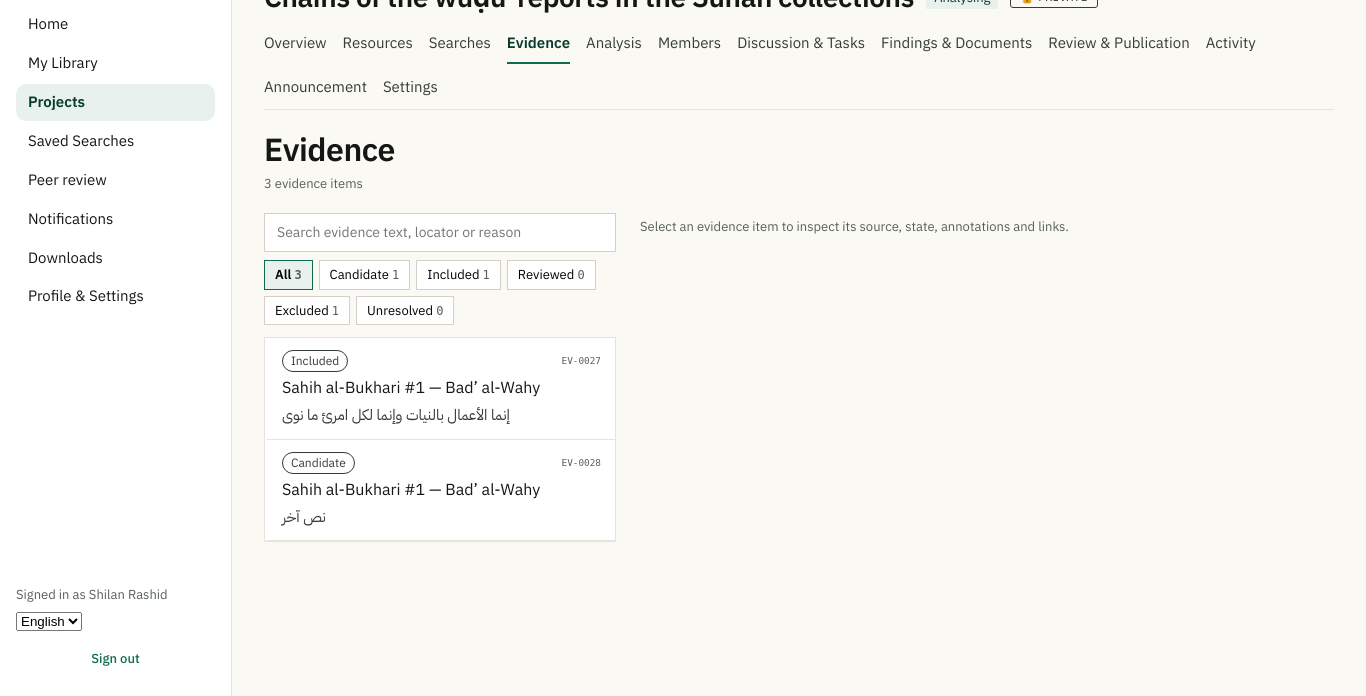
Scenario: Evidence inspector › lists evidence with state counts and opens one in the inspector
The image size is (1366, 696).
Expected: the heading "Evidence" is shown, left=264, top=130, right=395, bottom=170
Expected: the text "3 evidence items" is shown, left=264, top=174, right=363, bottom=193
Click the button "EV-0027".
click(440, 389)  # box left=265, top=338, right=615, bottom=440
(page scrolled)
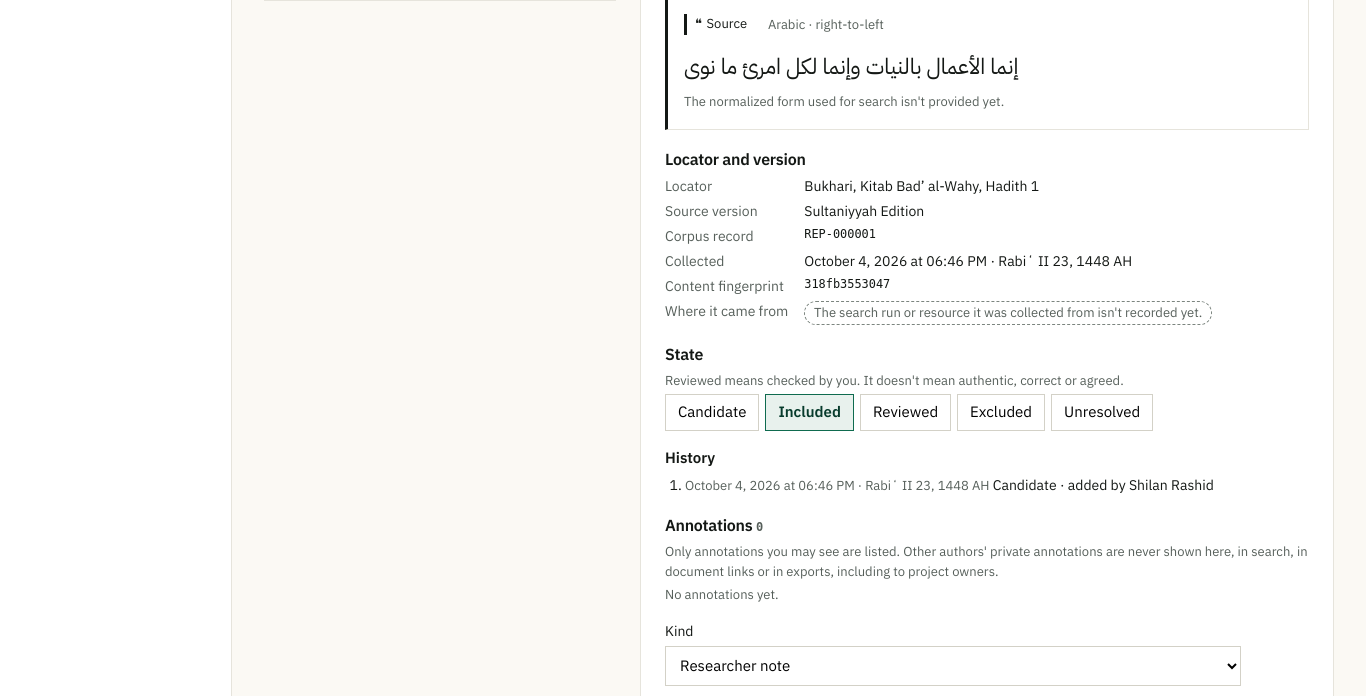
Expected: the text "إنما الأعمال بالنيات وإنما لكل امرئ ما نوى" is shown, left=684, top=50, right=1018, bottom=83
Expected: the text "Bukhari, Kitab Bad’ al-Wahy, Hadith 1" is shown, left=804, top=176, right=1039, bottom=197
Expected: the text "Sultaniyyah Edition" is shown, left=804, top=201, right=924, bottom=222
